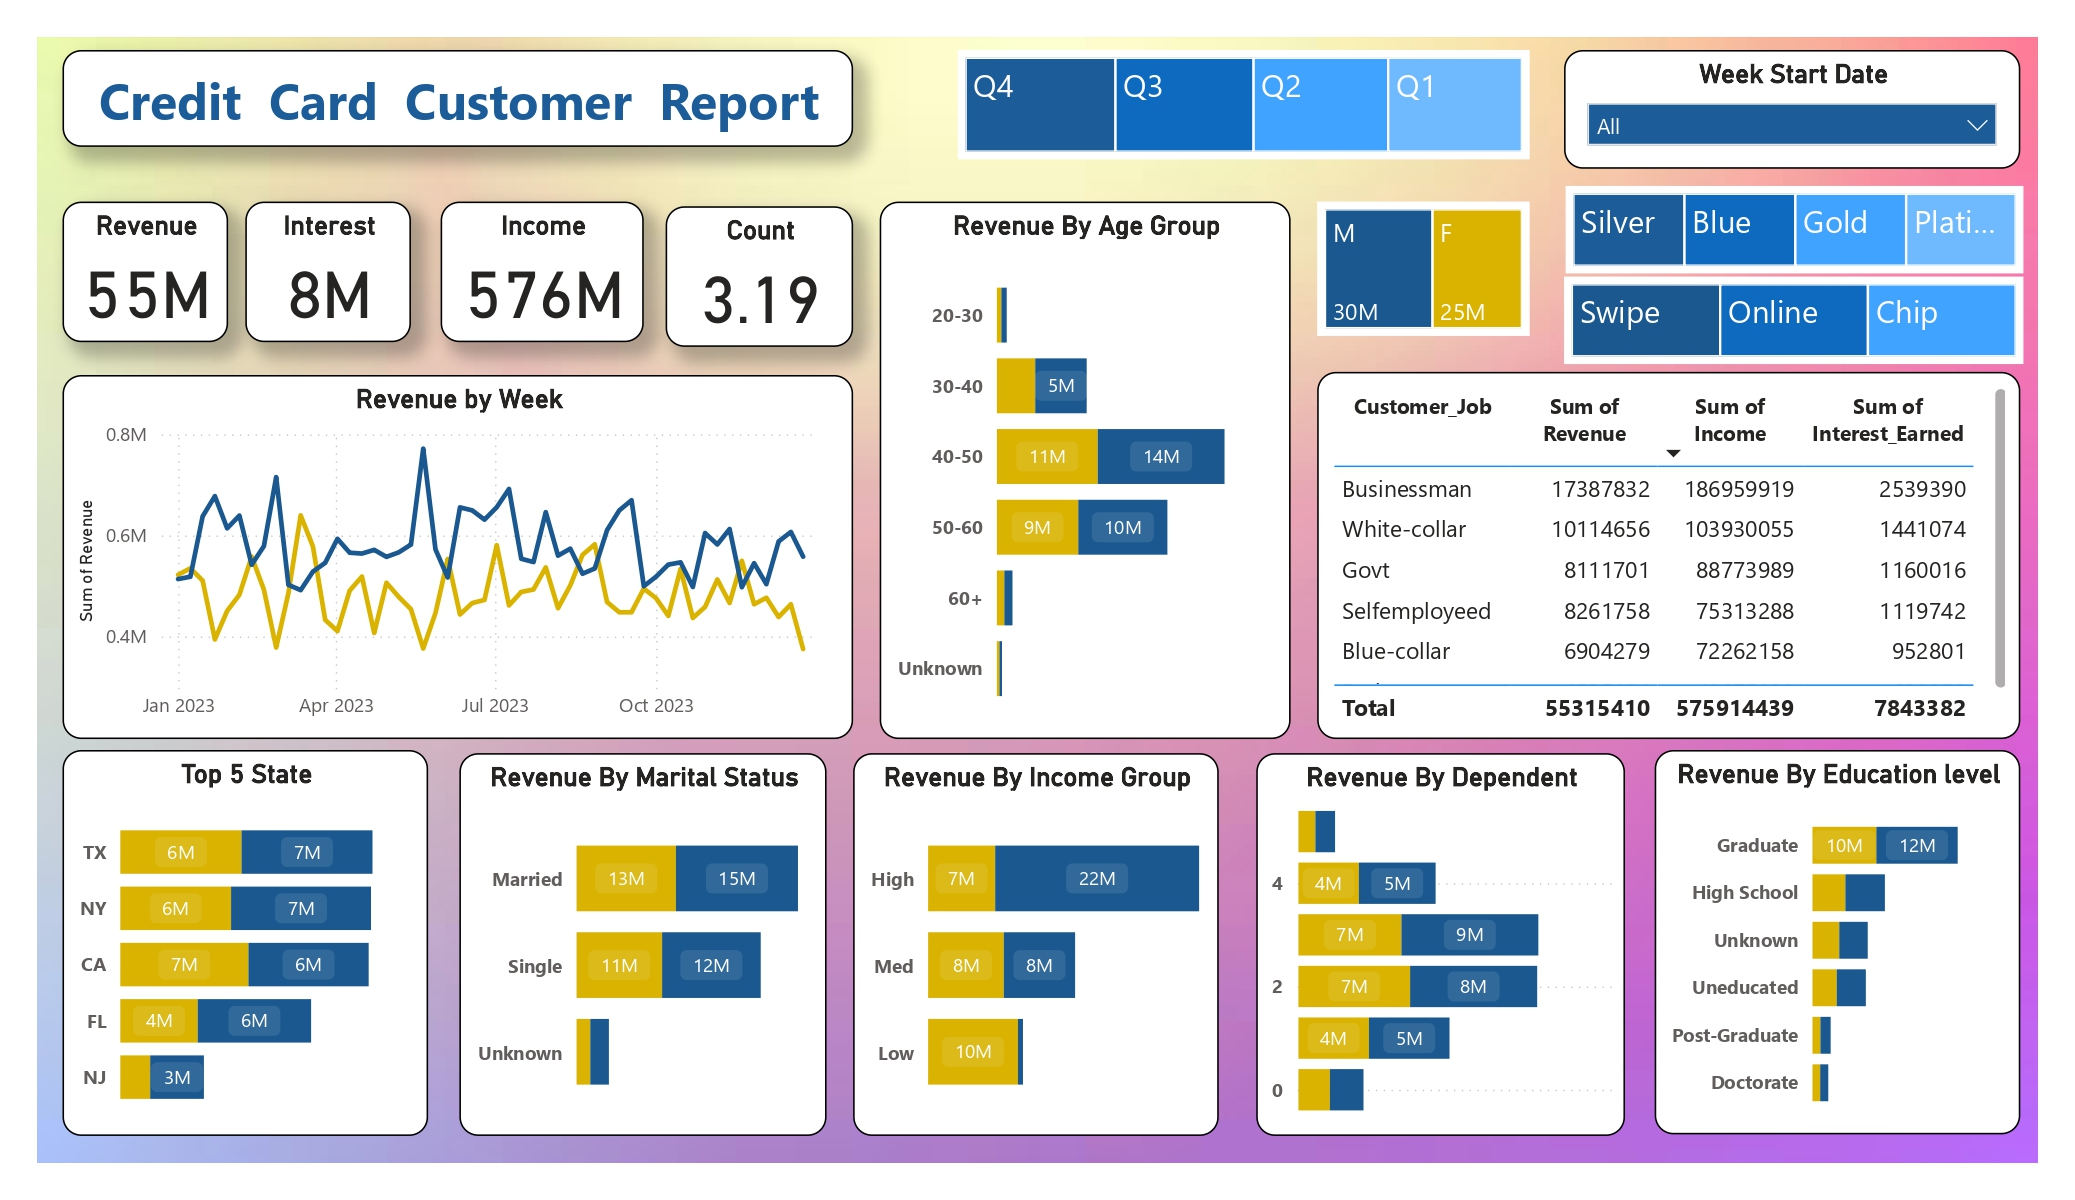

This screenshot's page, from the dashboard's own definition file:
{"tool":"powerbi","page":{"name":"CC Customer","canvas":[1280,720],"ordinal":2},"visuals":[{"type":"textbox","box":[15.6,7.8,506.4,62.5],"z":0},{"type":"barChart","title":"Revenue By Income Group","fields":{"Category":["customer.IncomeGroup"],"Y":["Sum(credit_card.Revenue)"],"Series":["customer.Gender"]},"box":[522,458,234.4,245.4],"z":1000},{"type":"tableEx","fields":{"Values":["customer.Customer_Job","Sum(credit_card.Revenue)","Sum(customer.Income)","Sum(credit_card.Interest_Earned)"]},"box":[819,214.1,450.1,234.4],"z":2000},{"type":"card","title":"Revenue","fields":{"Values":["Sum(credit_card.Revenue)"]},"box":[15.6,104.7,106.3,90.7],"z":3000},{"type":"card","title":"Income","fields":{"Values":["Sum(customer.Income)"]},"box":[257.9,104.7,129.7,90.7],"z":4000},{"type":"card","title":"Interest","fields":{"Values":["Sum(credit_card.Interest_Earned)"]},"box":[132.9,104.7,106.3,90.7],"z":5000},{"type":"card","title":"Count","fields":{"Values":["Avg(customer.Cust_Satisfaction_Score)"]},"box":[401.7,107.8,120.4,90.7],"z":6000},{"type":"slicer","title":"Week Start Date","fields":{"Values":["credit_card.Week_Start_Date"]},"box":[976.9,7.8,292.3,76.6],"z":7000},{"type":"treemap","fields":{"Group":["credit_card.Qtr"],"Values":["Avg(credit_card.Client_Num)"]},"box":[589.2,7.8,365.7,70.3],"z":8000},{"type":"treemap","fields":{"Values":["Avg(credit_card.Client_Num)"],"Group":["credit_card.Card_Category"]},"box":[978.4,95.3,293,56],"z":9000},{"type":"lineChart","title":"Revenue by Week","fields":{"Y":["Sum(credit_card.Revenue)"],"Series":["customer.Gender"],"Category":["credit_card.Week_Start_Date.Variation.Date Hierarchy.Year","credit_card.Week_Start_Date.Variation.Date Hierarchy.Month","credit_card.Week_Start_Date.Variation.Date Hierarchy.Day"]},"box":[15.6,215.7,506.4,232.9],"z":10000},{"type":"treemap","fields":{"Group":["customer.Gender"],"Values":["Sum(credit_card.Revenue)"]},"box":[819,104.7,136,86],"z":11000},{"type":"barChart","title":"Revenue By Age Group","fields":{"Category":["customer.AgeGroup"],"Y":["Sum(credit_card.Revenue)"],"Series":["customer.Gender"]},"box":[539.2,104.7,262.6,343.9],"z":12000},{"type":"barChart","title":"Revenue By Dependent","fields":{"Category":["customer.Dependent_Count"],"Y":["Sum(credit_card.Revenue)"],"Series":["customer.Gender"]},"box":[779.9,458,236,245.4],"z":13000},{"type":"barChart","title":"Revenue By Education level","fields":{"Category":["customer.Education_Level"],"Y":["Sum(credit_card.Revenue)"],"Series":["customer.Gender"]},"box":[1034.7,456.4,234.4,245.4],"z":14000},{"type":"barChart","title":"Top 5 State","fields":{"Category":["customer.state_cd"],"Y":["Sum(credit_card.Revenue)"],"Series":["customer.Gender"]},"box":[15.6,456.4,234.4,247],"z":15000},{"type":"barChart","title":"Revenue By Marital Status","fields":{"Category":["customer.Marital_Status"],"Y":["Sum(credit_card.Revenue)"],"Series":["customer.Gender"]},"box":[270.4,458,234.4,245.4],"z":16000},{"type":"treemap","fields":{"Values":["Avg(credit_card.Client_Num)"],"Group":["credit_card.Use Chip"]},"box":[976.9,153.2,293.8,56.3],"z":17000}]}

Visuals, with their boxes in screenshot pixels (x1, y1, x2, y2):
textbox: crop(62, 50, 853, 147)
"Revenue By Income Group" barChart: crop(853, 753, 1219, 1137)
tableEx - customer.Customer_Job x Sum(credit_card.Revenue): crop(1317, 372, 2020, 738)
"Revenue" card: crop(62, 201, 228, 343)
"Income" card: crop(440, 201, 643, 343)
"Interest" card: crop(245, 201, 411, 343)
"Count" card: crop(665, 206, 853, 348)
"Week Start Date" slicer: crop(1564, 50, 2021, 169)
treemap - credit_card.Qtr x Avg(credit_card.Client_Num): crop(958, 50, 1530, 160)
treemap - Avg(credit_card.Client_Num) x credit_card.Card_Category: crop(1566, 186, 2024, 274)
"Revenue by Week" lineChart: crop(62, 375, 853, 738)
treemap - customer.Gender x Sum(credit_card.Revenue): crop(1317, 201, 1530, 335)
"Revenue By Age Group" barChart: crop(880, 201, 1290, 738)
"Revenue By Dependent" barChart: crop(1256, 753, 1625, 1137)
"Revenue By Education level" barChart: crop(1654, 751, 2020, 1134)
"Top 5 State" barChart: crop(62, 751, 428, 1137)
"Revenue By Marital Status" barChart: crop(460, 753, 826, 1137)
treemap - Avg(credit_card.Client_Num) x credit_card.Use Chip: crop(1564, 277, 2023, 365)
